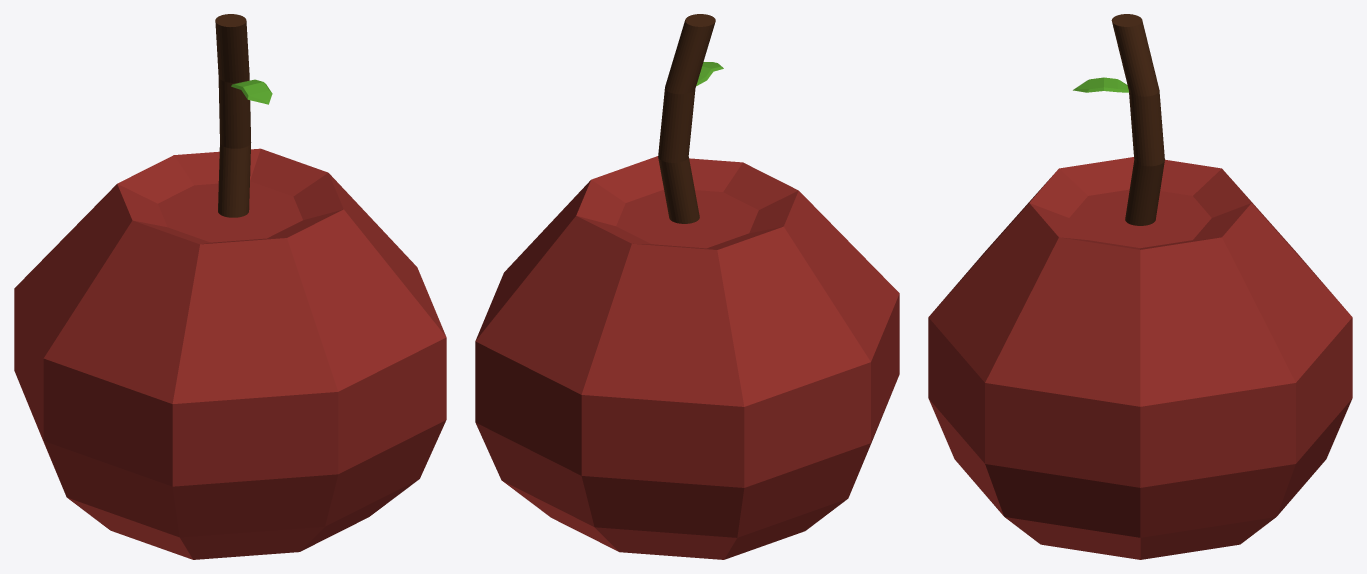
The model's file is Apple2.glb.
The picture shows the model from 3 angles, left to right: view 1: azimuth 30°, elevation 25°; view 2: azimuth 150°, elevation 25°; view 3: azimuth 270°, elevation 25°; orthographic projection.
Parts seen in each view (by area): view 1: Pomme; view 2: Pomme; view 3: Pomme.
Boxes of the visible parts, x1=… form: Pomme: x1=14, y1=14, x2=446, y2=559; Pomme: x1=475, y1=14, x2=899, y2=559; Pomme: x1=928, y1=14, x2=1352, y2=559.
Size of the model in its own units: 0.0372 by 0.0463 by 0.0372.
3 materials, 3 textured.
